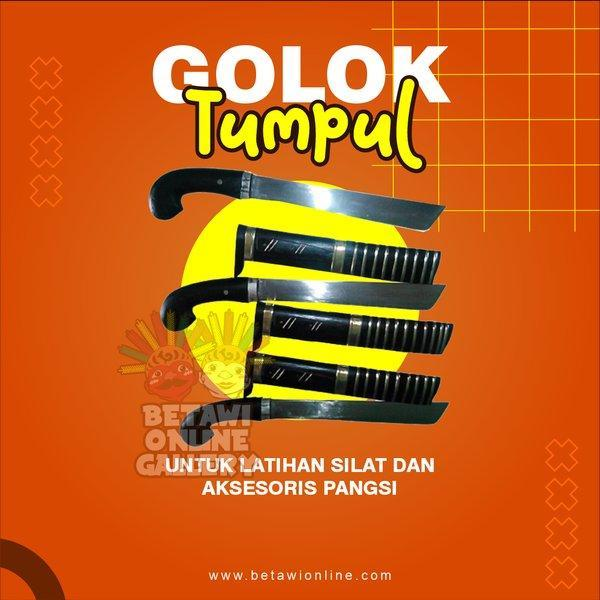facao: (133, 160, 456, 237), (141, 262, 456, 318), (156, 388, 471, 438)
